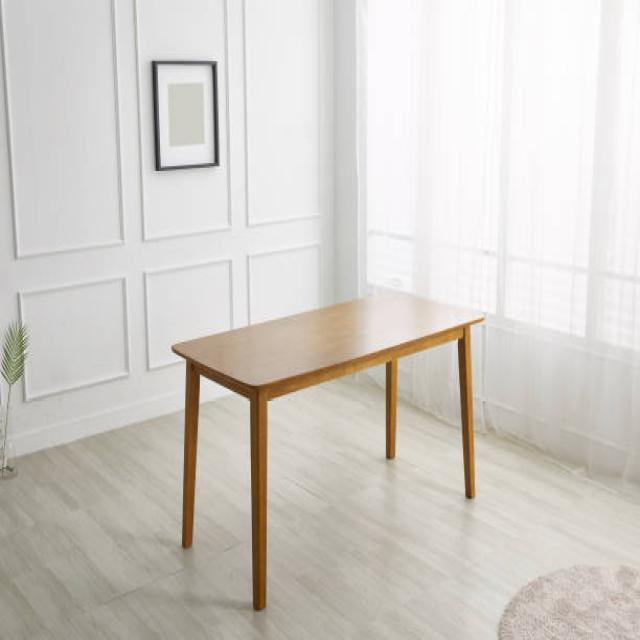table: (170, 287, 486, 610)
